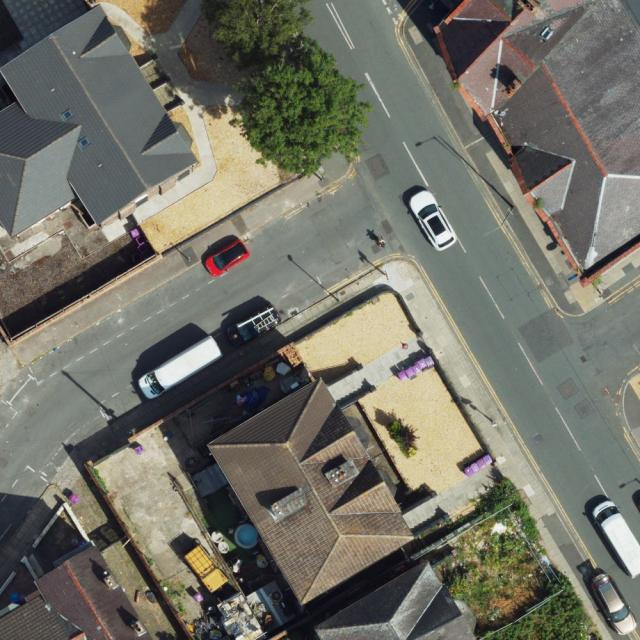roof: (438, 0, 640, 285), (207, 374, 417, 608), (0, 2, 199, 240), (0, 544, 155, 640), (316, 558, 478, 640)
skylight: (540, 27, 555, 43), (77, 135, 93, 150), (60, 107, 76, 122)
